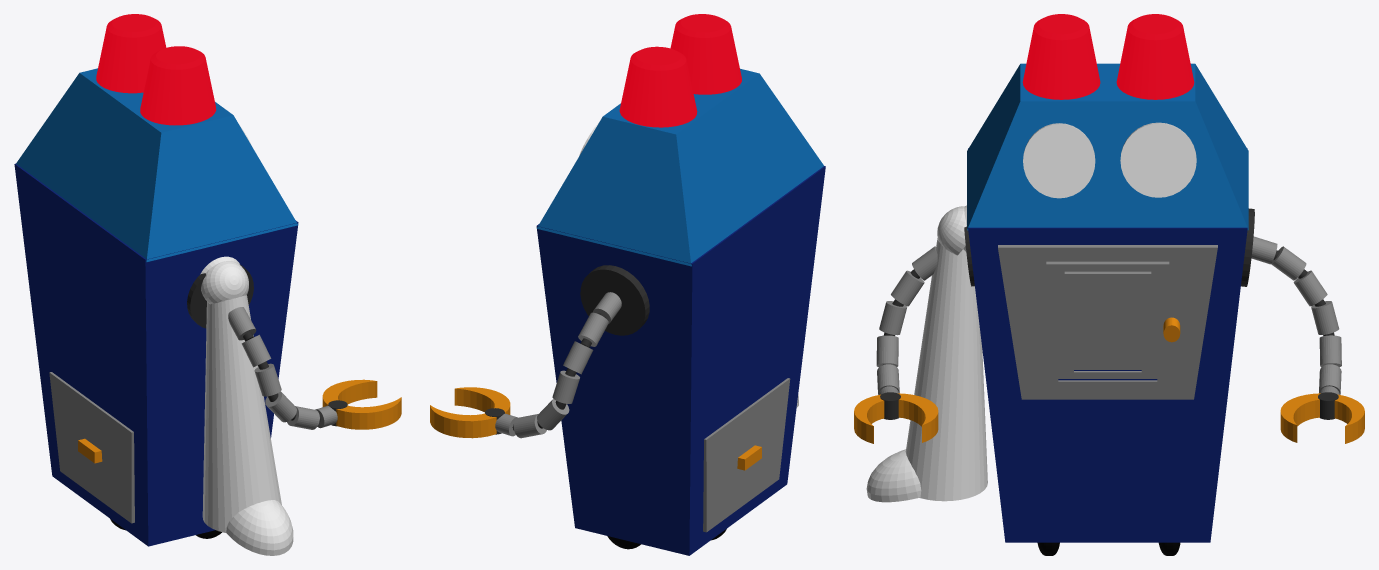
Rendered from robot_cc.glb.
The picture shows the model from 3 angles, left to right: view 1: azimuth 30°, elevation 25°; view 2: azimuth 150°, elevation 25°; view 3: azimuth 270°, elevation 25°; orthographic projection. The views are drawn at different scales.
Parts seen in each view (by area): view 1: 立方体, 立方体.001, 円柱.009, 立方体.003, 円柱, 円柱.004, 球, 円柱.017, 円柱.010, 円柱.023, 円柱.011, 円柱.027 (+2 smaller); view 2: 立方体, 立方体.001, 立方体.003, 円柱.004, 円柱, 円柱.039, 円柱.032, 円柱.025, 円柱.038, 円柱.030, 円柱.022, 円柱.040 (+1 smaller); view 3: 立方体, 立方体.002, 立方体.001, 円柱.009, 円柱.004, 円柱, 円柱.006, 円柱.007, 円柱.032, 円柱.017, 球, 円柱.023 (+6 smaller).
Part boxes in pixels (bbox=[...]): 立方体: bbox=[14, 163, 298, 546]; 立方体.001: bbox=[16, 68, 297, 262]; 円柱.009: bbox=[200, 256, 281, 532]; 立方体.003: bbox=[49, 372, 134, 523]; 円柱: bbox=[140, 46, 216, 125]; 円柱.004: bbox=[96, 14, 166, 93]; 球: bbox=[226, 500, 293, 555]; 円柱.017: bbox=[322, 379, 401, 429]; 円柱.010: bbox=[187, 264, 253, 328]; 円柱.023: bbox=[254, 363, 281, 396]; 円柱.011: bbox=[228, 307, 256, 340]; 円柱.027: bbox=[265, 391, 296, 422]; 立方体: bbox=[536, 166, 825, 555]; 立方体.001: bbox=[537, 68, 823, 266]; 立方体.003: bbox=[703, 378, 790, 532]; 円柱.004: bbox=[619, 46, 697, 127]; 円柱: bbox=[670, 14, 741, 94]; 円柱.039: bbox=[580, 265, 649, 335]; 円柱.032: bbox=[430, 387, 510, 438]; 円柱.025: bbox=[552, 370, 579, 403]; 円柱.038: bbox=[578, 312, 608, 346]; 円柱.030: bbox=[563, 341, 593, 374]; 円柱.022: bbox=[537, 399, 569, 430]; 円柱.040: bbox=[513, 414, 546, 438]; 立方体: bbox=[968, 148, 1247, 542]; 立方体.002: bbox=[998, 245, 1217, 399]; 立方体.001: bbox=[967, 63, 1248, 230]; 円柱.009: bbox=[905, 205, 987, 501]; 円柱.004: bbox=[1116, 14, 1194, 99]; 円柱: bbox=[1022, 14, 1100, 99]; 円柱.006: bbox=[1120, 122, 1196, 197]; 円柱.007: bbox=[1023, 123, 1095, 198]; 円柱.032: bbox=[1280, 393, 1364, 443]; 円柱.017: bbox=[854, 393, 938, 443]; 球: bbox=[866, 449, 921, 502]; 円柱.023: bbox=[879, 301, 907, 335].
Size of the model in its own units: 1.24 by 2.7 by 2.42.
